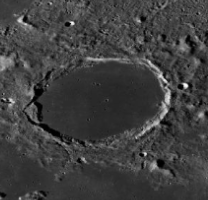crater: (17, 43, 175, 156)
